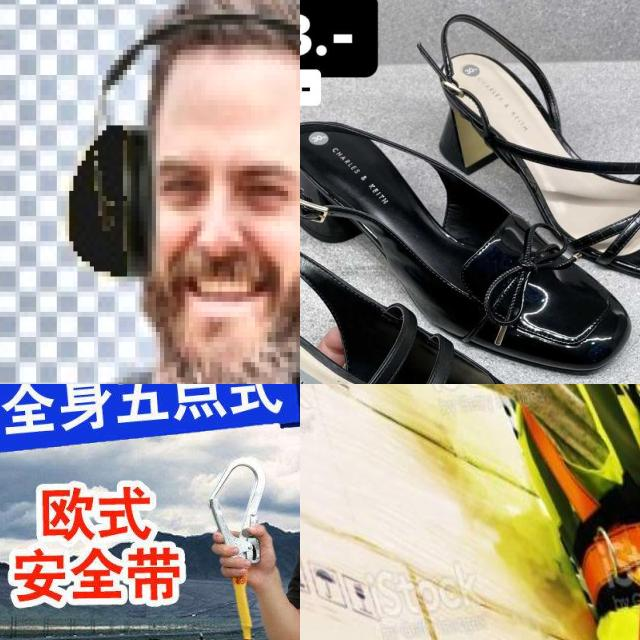Ear-protection: (54, 0, 300, 295)
Harness: (525, 413, 640, 622), (206, 451, 271, 580)
Sandals: (300, 93, 640, 379), (400, 2, 640, 315), (300, 190, 640, 384)
